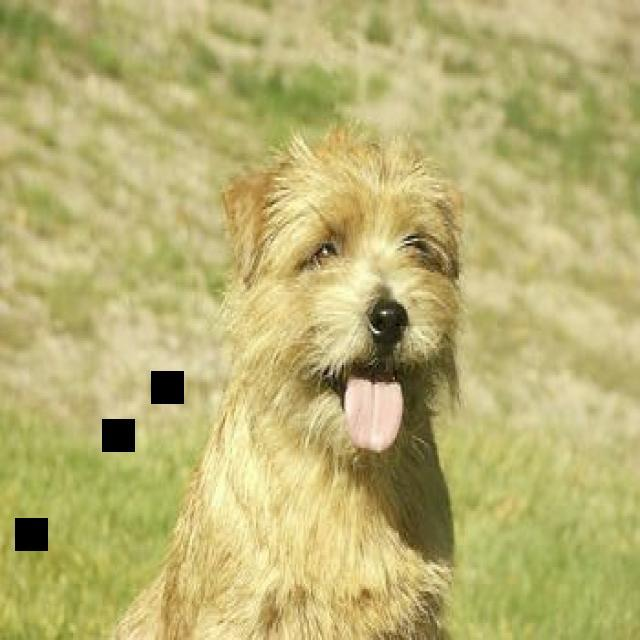adult_dog: (108, 131, 467, 640)
